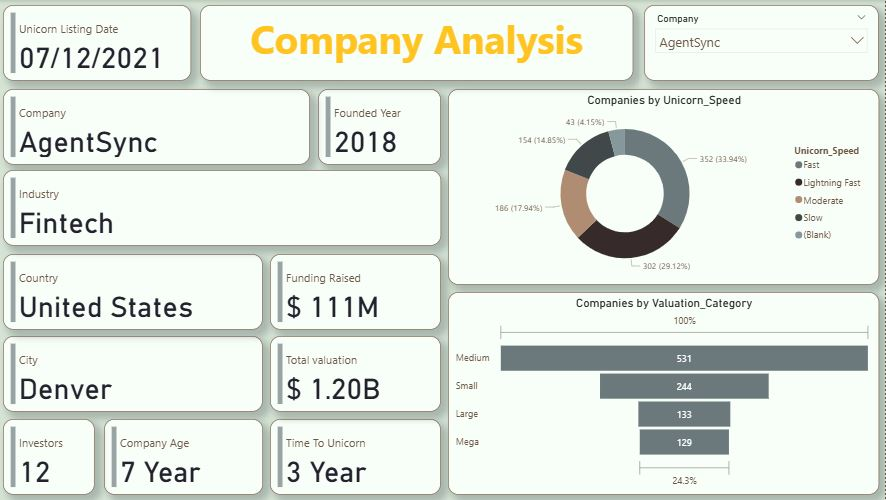

This screenshot's page, from the dashboard's own definition file:
{"tool":"powerbi","page":{"name":"Company View","canvas":[1280,720],"ordinal":2},"visuals":[{"type":"slicer","fields":{"Values":["Unicorn_Companies.Company"]},"box":[931.7,7.2,338.4,109.4],"z":0},{"type":"cardVisual","fields":{"Data":["Table.Fouunded Year"]},"box":[462.2,128.2,177.1,109.4],"z":1000},{"type":"cardVisual","fields":{"Data":["Min(Unicorn_Companies.Date Joined)"]},"box":[8.6,7.2,270.7,109.4],"z":2000},{"type":"cardVisual","fields":{"Data":["Min(Unicorn_Companies.City)"]},"box":[8.6,483.8,374.4,109.4],"z":3000},{"type":"cardVisual","fields":{"Data":["Min(Unicorn_Companies.Country)"]},"box":[8.6,365.8,374.4,109.4],"z":4000},{"type":"cardVisual","fields":{"Data":["Min(Unicorn_Companies.Company)"]},"box":[8.6,128.2,442.1,109.4],"z":5000},{"type":"cardVisual","fields":{"Data":["Min(Unicorn_Companies.Industry)"]},"box":[8.6,245,630.7,109.4],"z":6000},{"type":"cardVisual","fields":{"Data":["Table.Company Age"]},"box":[154.1,603.4,229,109.4],"z":7000},{"type":"cardVisual","fields":{"Data":["Table.Average Funding"]},"box":[393.1,365.8,246.2,109.4],"z":8000},{"type":"cardVisual","fields":{"Data":["Sum(Unicorn_Companies.Investors Count)"]},"box":[8.6,603.4,132.5,109.4],"z":9000},{"type":"cardVisual","fields":{"Data":["Table.Avg Time To Unicorn"]},"box":[393.1,603.4,246.2,109.4],"z":10000},{"type":"cardVisual","fields":{"Data":["Table.Average valuation"]},"box":[393.1,483.8,246.2,109.4],"z":11000},{"type":"donutChart","fields":{"Category":["Unicorn_Companies.Unicorn_Speed"],"Y":["CountNonNull(Unicorn_Companies.Company)"]},"box":[649.4,128.2,620.6,282.2],"z":12000},{"type":"funnel","fields":{"Category":["Unicorn_Companies.Valuation_Category"],"Y":["CountNonNull(Unicorn_Companies.Company)"]},"box":[649.4,420.5,620.6,292.3],"z":13000},{"type":"textbox","box":[292.3,7.2,623.5,109.4],"z":14000},{"type":"shape","box":[292.3,20.2,613.4,82.1],"z":15000}]}

Visuals, with their boxes in screenshot pixels (x1, y1, x2, y2), scaled from the page's 1280x720 canvas onto the 886x500 screenshot:
slicer - Unicorn_Companies.Company: [645, 5, 879, 81]
cardVisual - Table.Fouunded Year: [320, 89, 443, 165]
cardVisual - Min(Unicorn_Companies.Date Joined): [6, 5, 193, 81]
cardVisual - Min(Unicorn_Companies.City): [6, 336, 265, 412]
cardVisual - Min(Unicorn_Companies.Country): [6, 254, 265, 330]
cardVisual - Min(Unicorn_Companies.Company): [6, 89, 312, 165]
cardVisual - Min(Unicorn_Companies.Industry): [6, 170, 443, 246]
cardVisual - Table.Company Age: [107, 419, 265, 495]
cardVisual - Table.Average Funding: [272, 254, 443, 330]
cardVisual - Sum(Unicorn_Companies.Investors Count): [6, 419, 98, 495]
cardVisual - Table.Avg Time To Unicorn: [272, 419, 443, 495]
cardVisual - Table.Average valuation: [272, 336, 443, 412]
donutChart - Unicorn_Companies.Unicorn_Speed x CountNonNull(Unicorn_Companies.Company): [450, 89, 879, 285]
funnel - Unicorn_Companies.Valuation_Category x CountNonNull(Unicorn_Companies.Company): [450, 292, 879, 495]
textbox: [202, 5, 634, 81]
shape: [202, 14, 627, 71]
